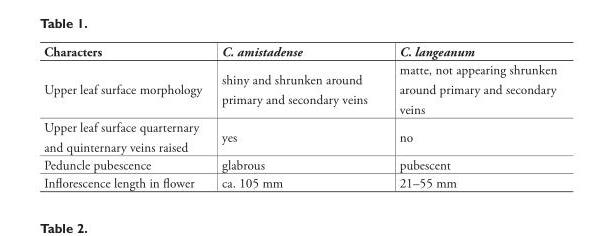table: (43, 43, 556, 191)
table column: (382, 43, 556, 191), (211, 43, 382, 191), (43, 43, 211, 191)
table column header: (43, 43, 556, 60)
table row: (43, 60, 556, 118), (43, 118, 556, 155), (43, 155, 556, 173), (43, 173, 556, 191), (43, 43, 556, 60)
